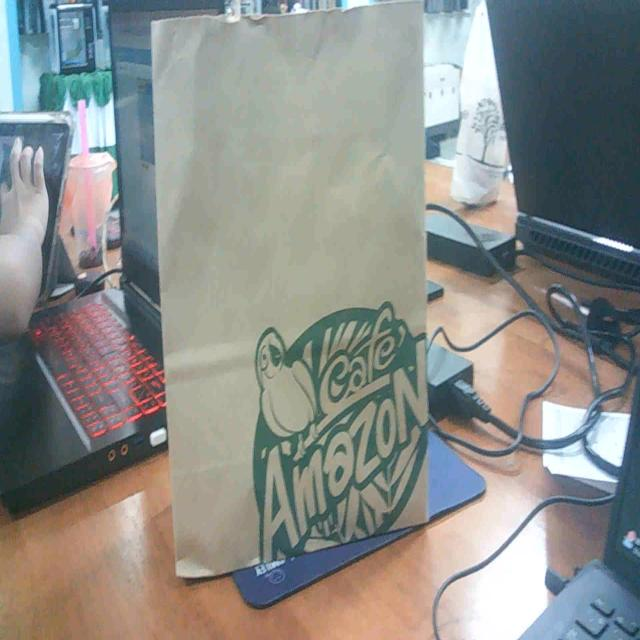bag: (129, 5, 456, 594)
